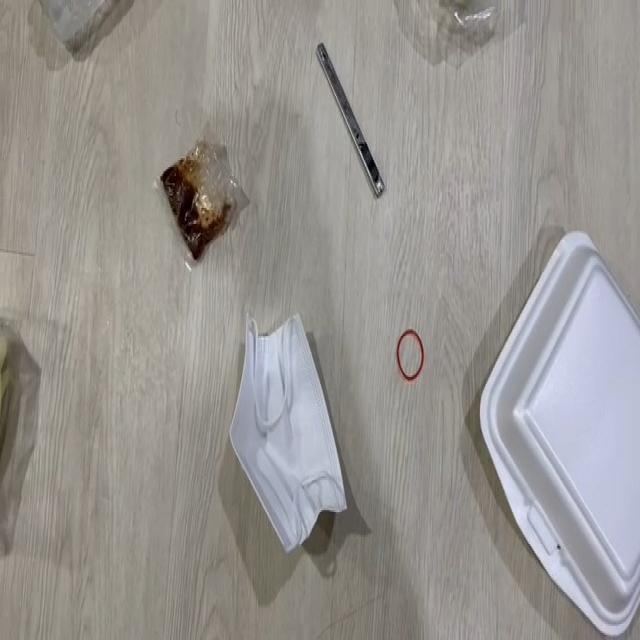Anorganik: (467, 218, 640, 630), (306, 35, 404, 198), (29, 0, 130, 69), (392, 326, 431, 386)
B3: (218, 304, 342, 562), (145, 109, 246, 273)
